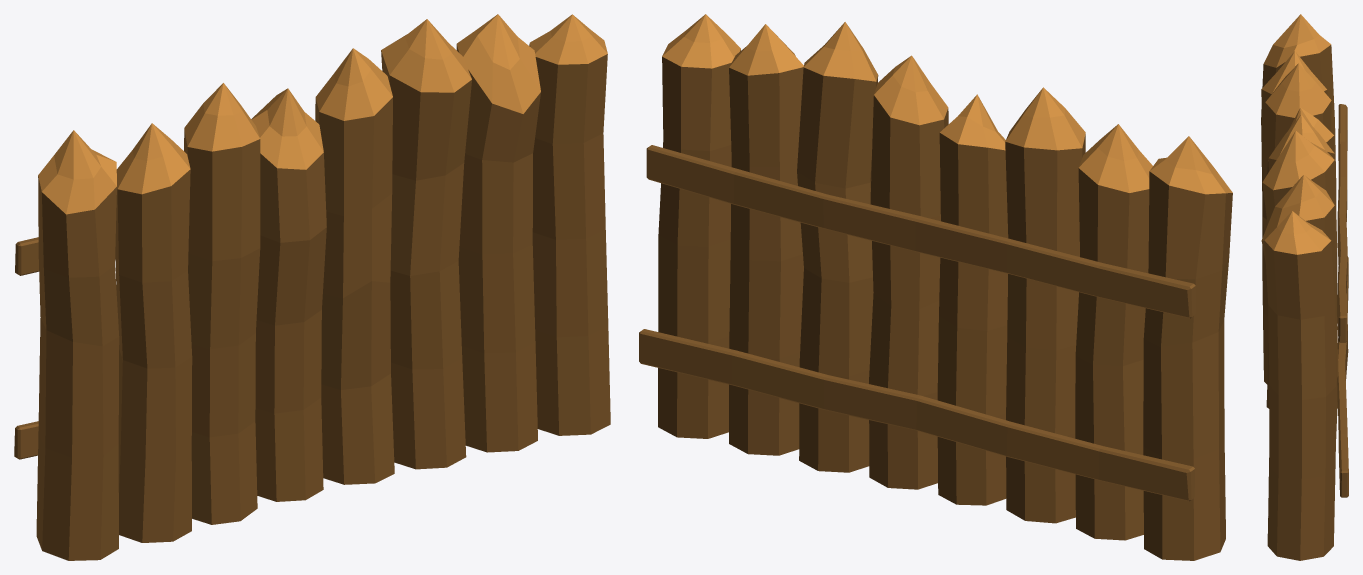
File: viking borg1.fbx
The picture shows the model from 3 angles, left to right: view 1: azimuth 30°, elevation 25°; view 2: azimuth 150°, elevation 25°; view 3: azimuth 270°, elevation 25°; orthographic projection. The views are drawn at different scales.
Visible parts, largest first — view 1: Cylinder; view 2: Cylinder; view 3: Cylinder.
Boxes of the visible parts, box(x1,y1,x2,y2) form: Cylinder: box(14, 14, 610, 560); Cylinder: box(639, 14, 1232, 560); Cylinder: box(1261, 14, 1348, 560).
Bounding box in the file's own units: 306 × 228 × 50.45.
